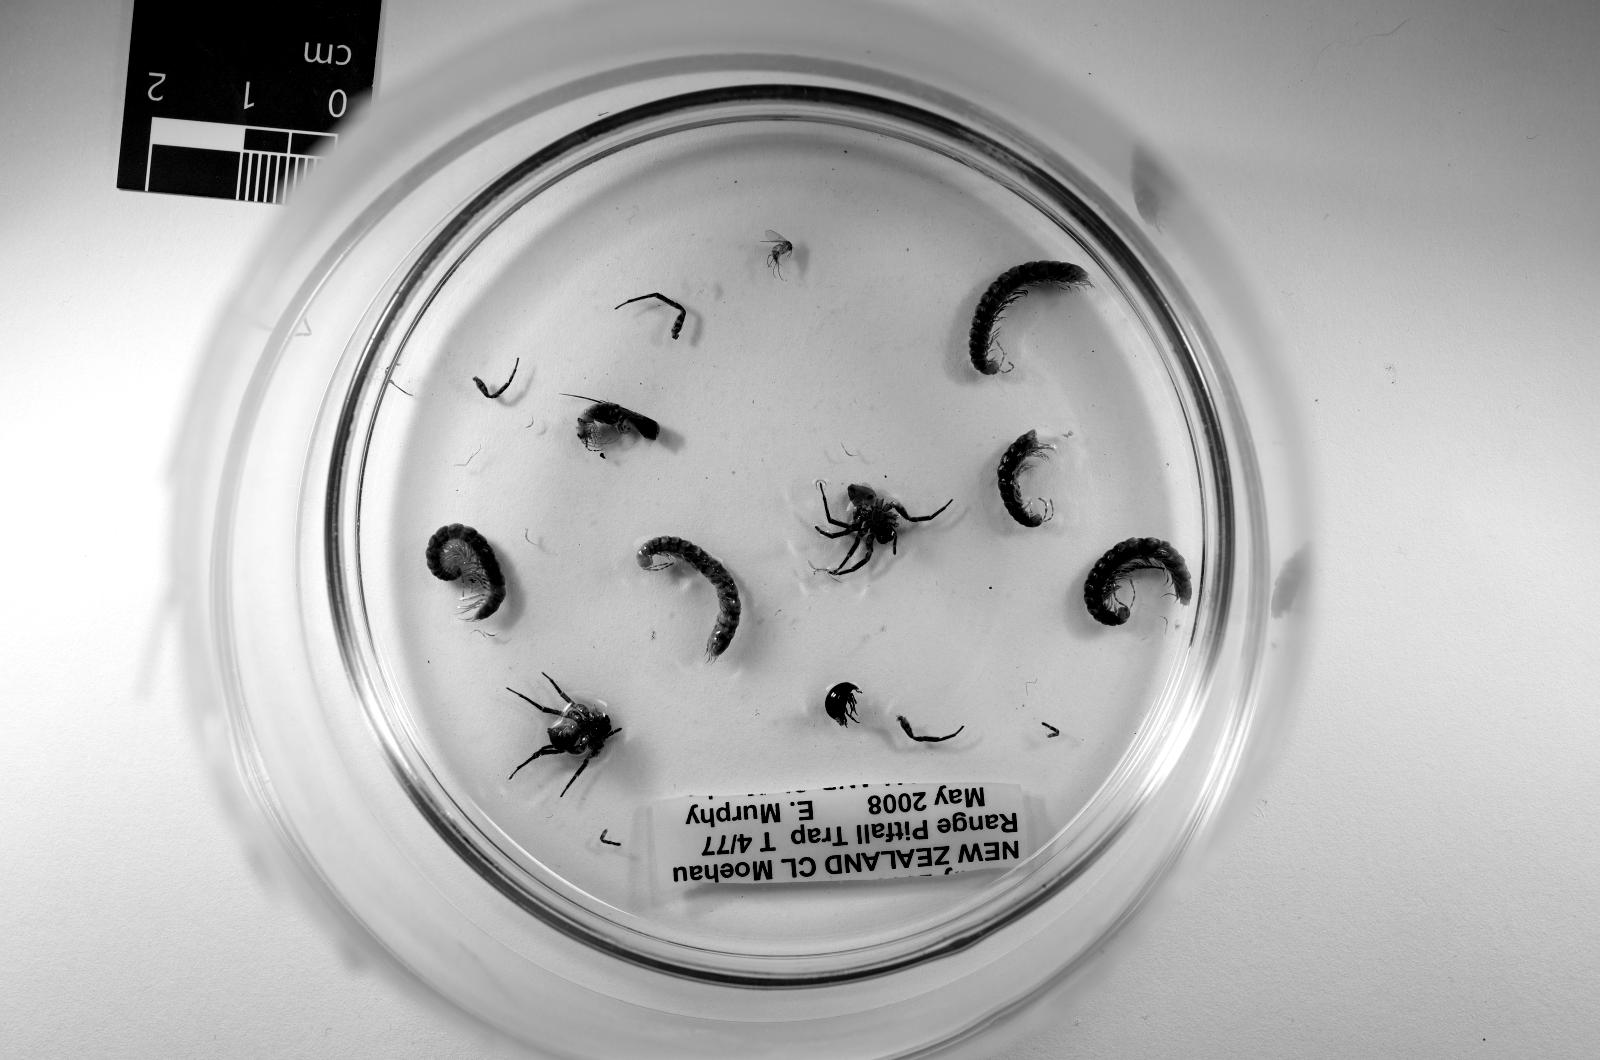araneae: (816, 484, 938, 575), (525, 680, 619, 783)
coleoptera: (825, 683, 859, 727)
diplopoda: (969, 261, 1091, 376), (638, 537, 741, 658), (1084, 537, 1191, 627), (428, 525, 506, 621), (997, 429, 1050, 528)
diptera: (766, 230, 794, 276)
